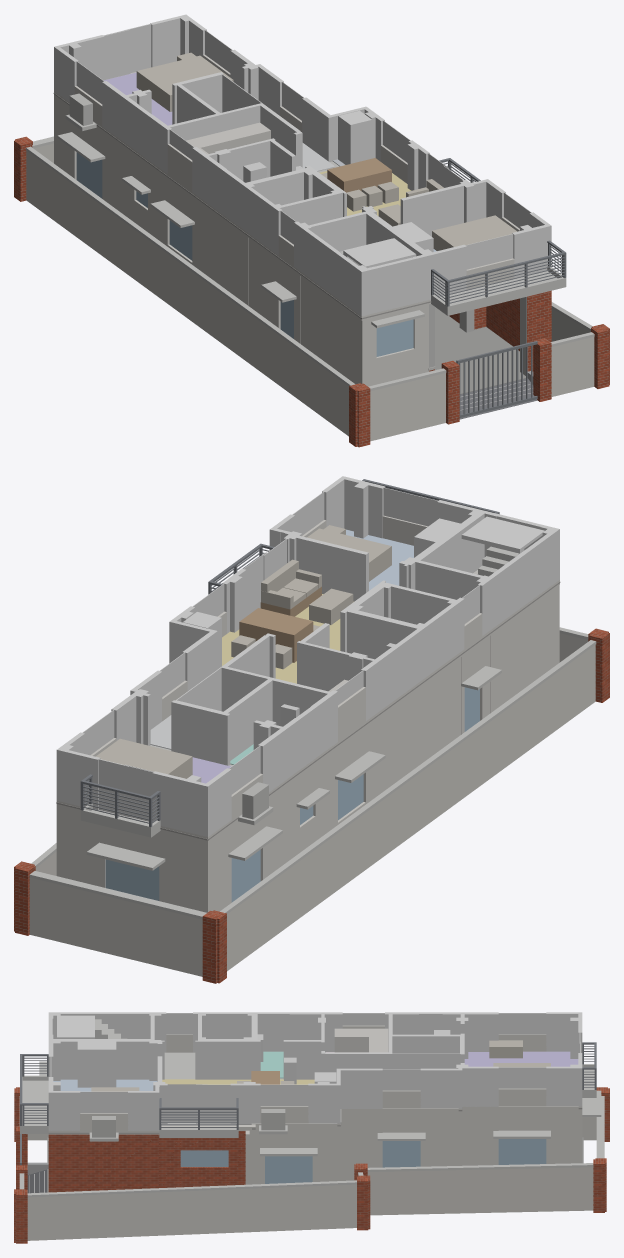
3 renders of one model, top to bottom at view 1: azimuth 30°, elevation 25°; view 2: azimuth 150°, elevation 25°; view 3: azimuth 270°, elevation 25°, orthographic. The views are drawn at different scales.
Visible parts, largest first — view 1: BOUNDARY#209, GROUND_FLOOR/core_wall#97, GROUND_FLOOR/flat_wall#46, BOUNDARY#167, PLINTH#0, 1ST_FLOOR/wall#294, BOUNDARY/coping#210, BOUNDARY#171, 1ST_FLOOR/partition#357, 1ST_FLOOR/wall#287, GROUND_FLOOR/flat_wall#56, 1ST_FLOOR/wall#299 (+68 smaller); view 2: BOUNDARY#209, BOUNDARY#205, GROUND_FLOOR/core_wall#97, GROUND_FLOOR/flat_wall#46, 1ST_FLOOR/wall#294, GROUND_FLOOR/flat_wall#78, BOUNDARY/coping#210, 1ST_FLOOR/partition#376, GROUND_FLOOR/flat_wall#83, 1ST_FLOOR/wall#342, 1ST_FLOOR/partition#359, 1ST_FLOOR/wall#299 (+65 smaller); view 3: BOUNDARY#193, BOUNDARY#201, GROUND_FLOOR/full_wall#151, GROUND_FLOOR/flat_wall#72, 1ST_FLOOR/partition#363, 1ST_FLOOR/partition#356, GROUND_FLOOR/flat_wall#77, GROUND_FLOOR/flat_wall#84, 1ST_FLOOR/furniture#390, 1ST_FLOOR/wall#336, GROUND_FLOOR/flat_wall#89, BOUNDARY/coping#194 (+81 smaller).
Boxes of the visible parts, x1,y1,x2,y2 form: BOUNDARY#209: [26, 151, 348, 436]; GROUND_FLOOR/core_wall#97: [301, 276, 361, 384]; GROUND_FLOOR/flat_wall#46: [192, 197, 248, 305]; BOUNDARY#167: [370, 373, 445, 441]; PLINTH#0: [435, 327, 525, 394]; 1ST_FLOOR/wall#294: [294, 221, 362, 314]; BOUNDARY/coping#210: [26, 146, 354, 386]; BOUNDARY#171: [551, 337, 594, 396]; 1ST_FLOOR/partition#357: [402, 182, 474, 236]; 1ST_FLOOR/wall#287: [412, 244, 466, 303]; GROUND_FLOOR/flat_wall#56: [102, 130, 136, 221]; 1ST_FLOOR/wall#299: [236, 179, 282, 255]; BOUNDARY#209: [227, 645, 595, 971]; BOUNDARY#205: [29, 877, 202, 976]; GROUND_FLOOR/core_wall#97: [490, 585, 559, 713]; GROUND_FLOOR/flat_wall#46: [363, 680, 429, 803]; 1ST_FLOOR/wall#294: [477, 530, 557, 635]; GROUND_FLOOR/flat_wall#78: [159, 830, 210, 912]; BOUNDARY/coping#210: [220, 640, 596, 913]; 1ST_FLOOR/partition#376: [171, 700, 230, 765]; GROUND_FLOOR/flat_wall#83: [56, 805, 105, 887]; 1ST_FLOOR/wall#342: [152, 771, 210, 836]; 1ST_FLOOR/partition#359: [288, 534, 367, 601]; 1ST_FLOOR/wall#299: [412, 597, 464, 683]; BOUNDARY#193: [27, 1184, 356, 1240]; BOUNDARY#201: [367, 1167, 593, 1215]; GROUND_FLOOR/full_wall#151: [49, 1134, 159, 1192]; GROUND_FLOOR/flat_wall#72: [340, 1112, 382, 1180]; 1ST_FLOOR/partition#363: [195, 1040, 255, 1079]; 1ST_FLOOR/partition#356: [52, 1040, 157, 1079]; GROUND_FLOOR/flat_wall#77: [420, 1112, 458, 1166]; GROUND_FLOOR/flat_wall#84: [462, 1110, 498, 1165]; 1ST_FLOOR/furniture#390: [77, 1041, 116, 1087]; 1ST_FLOOR/wall#336: [336, 1068, 382, 1108]; GROUND_FLOOR/flat_wall#89: [546, 1110, 578, 1163]; BOUNDARY/coping#194: [27, 1180, 356, 1197].
Bounding box in the file's own units: 8.06 × 4.7 × 18.89.
1 material, 1 textured.
